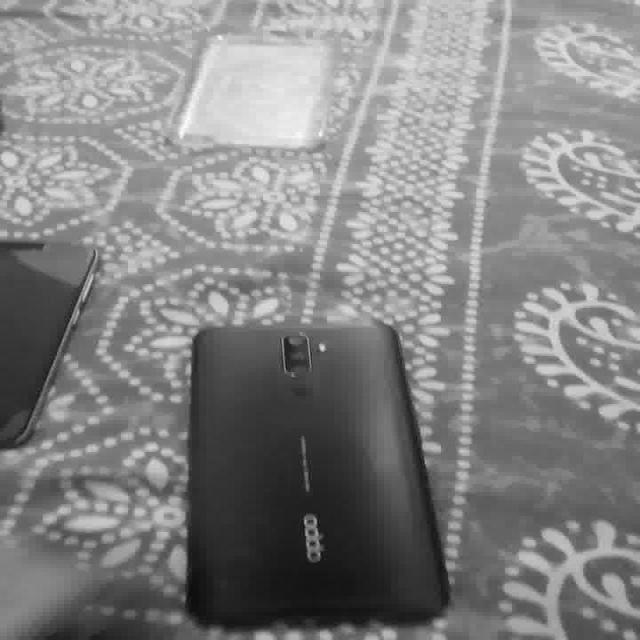fake: (182, 311, 454, 621), (0, 236, 97, 448)
